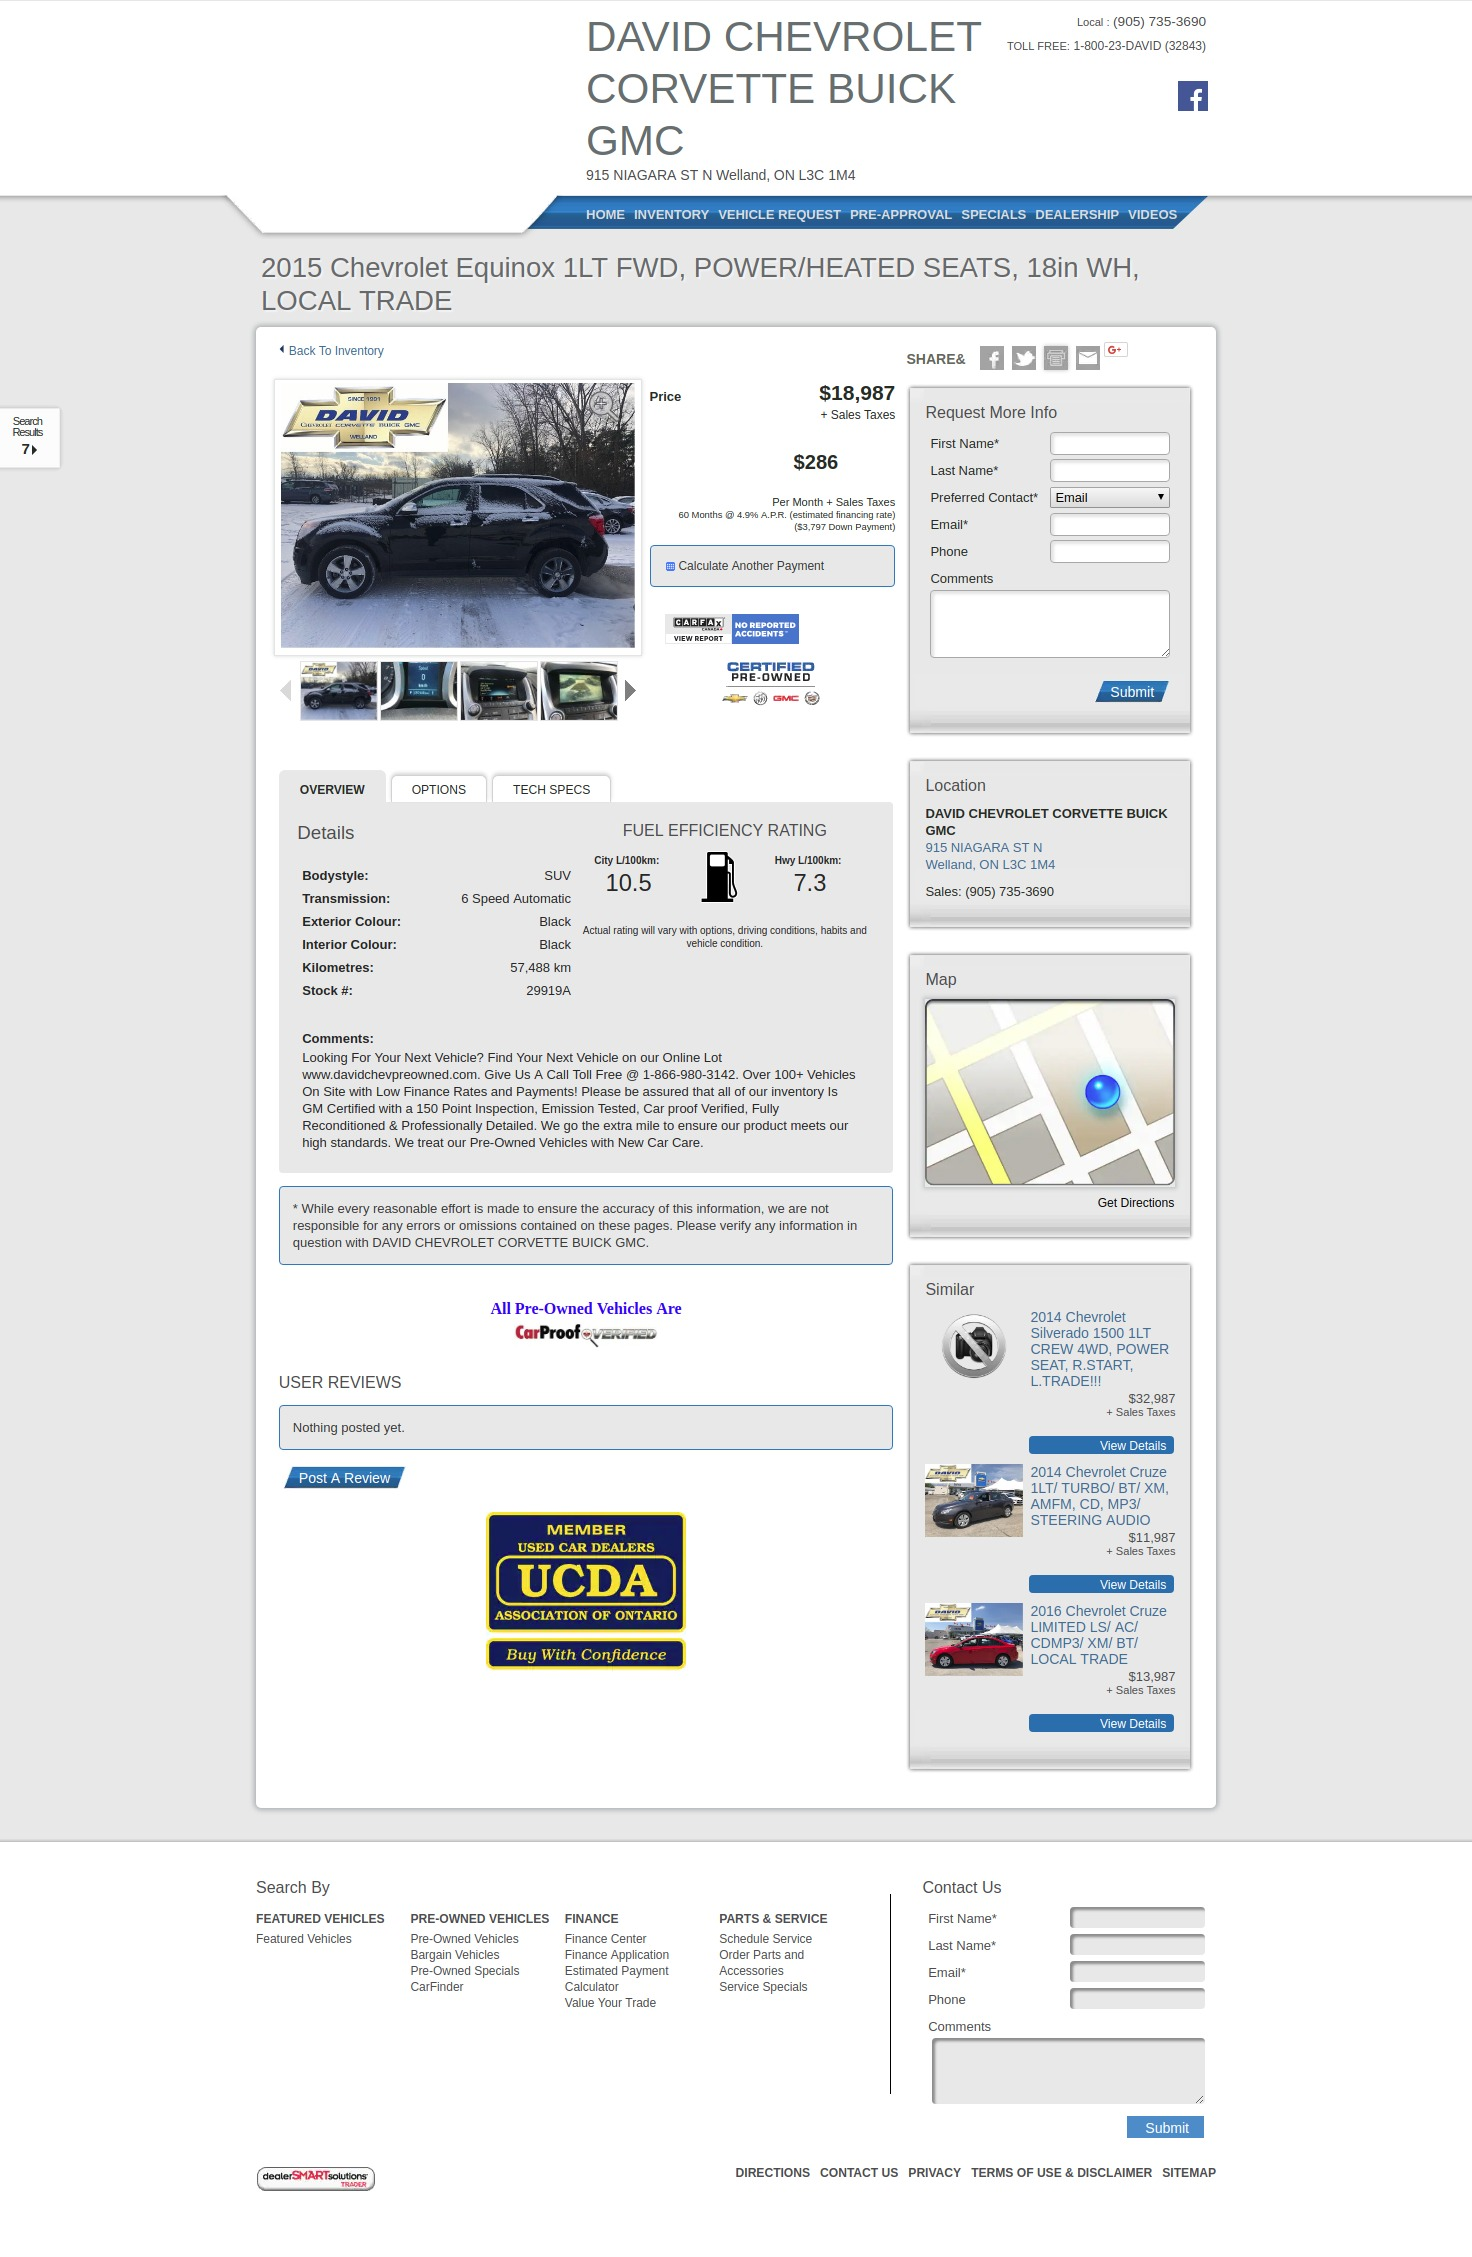car: (623, 679, 640, 706)
